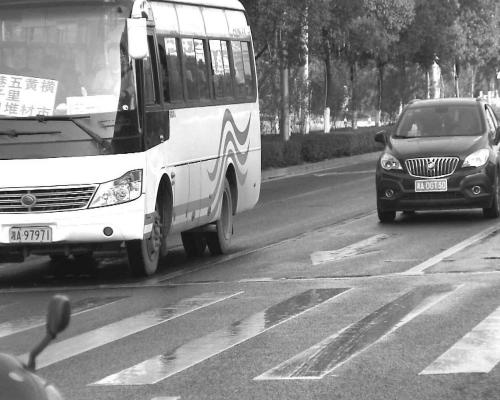Carplate: (5, 224, 55, 248), (408, 174, 454, 194)
